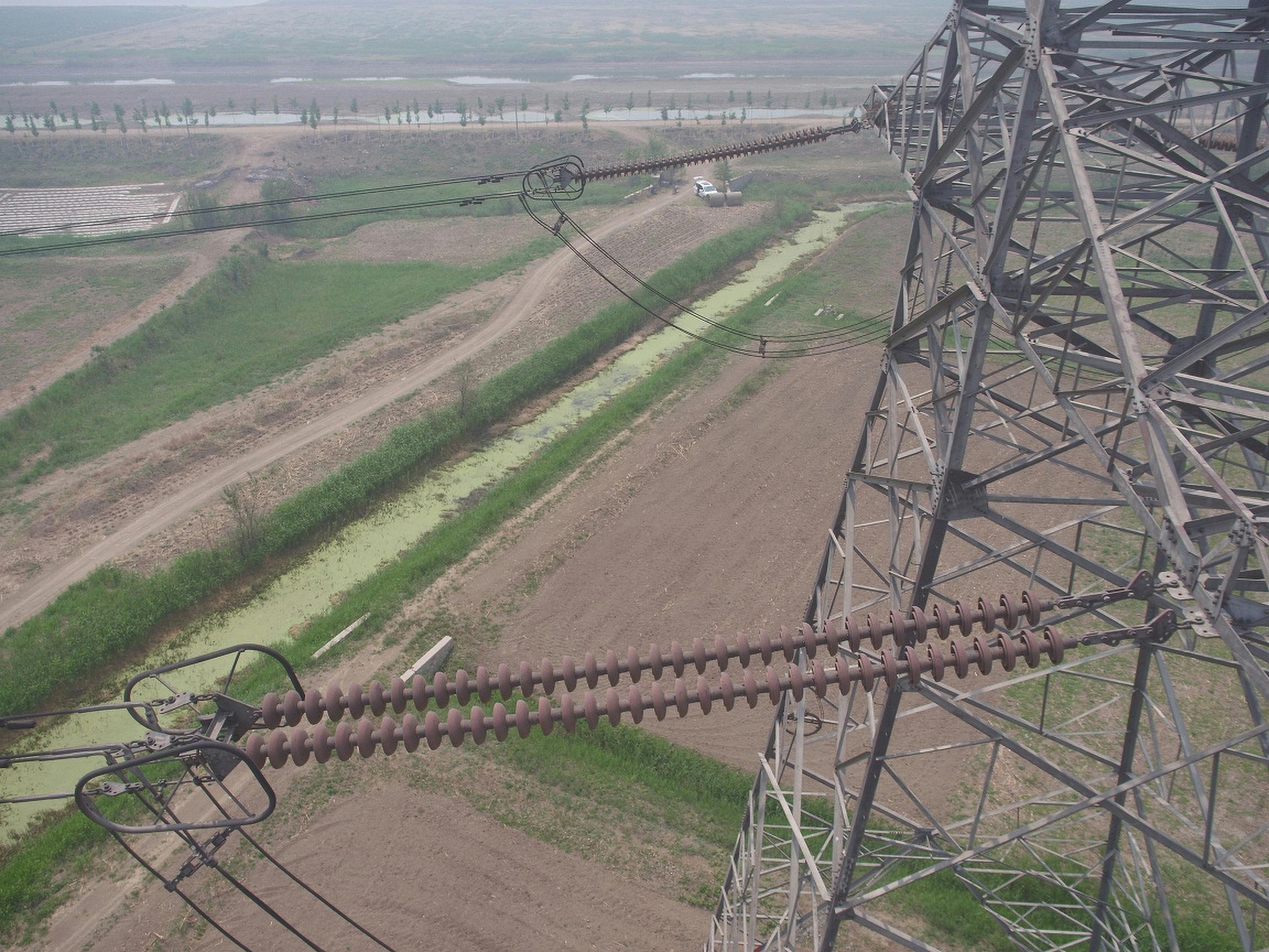insulator: (240, 585, 1068, 776), (572, 123, 829, 186), (1193, 131, 1269, 156)
